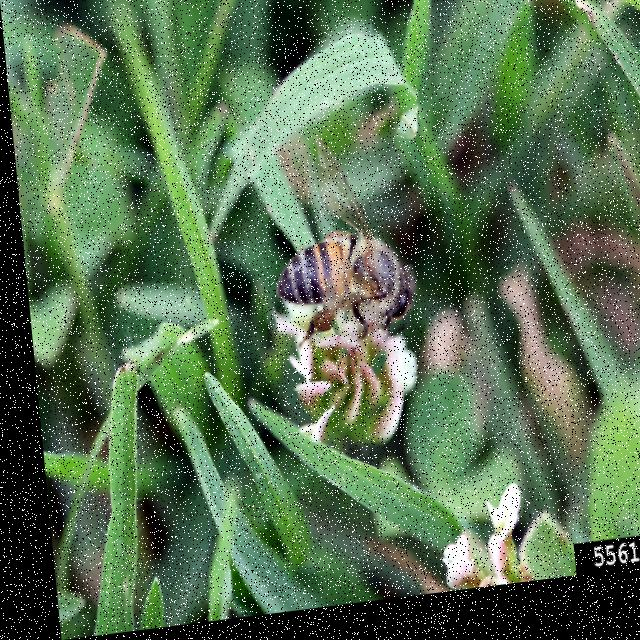Apis-mellifera-scutellata: (256, 123, 446, 399)
